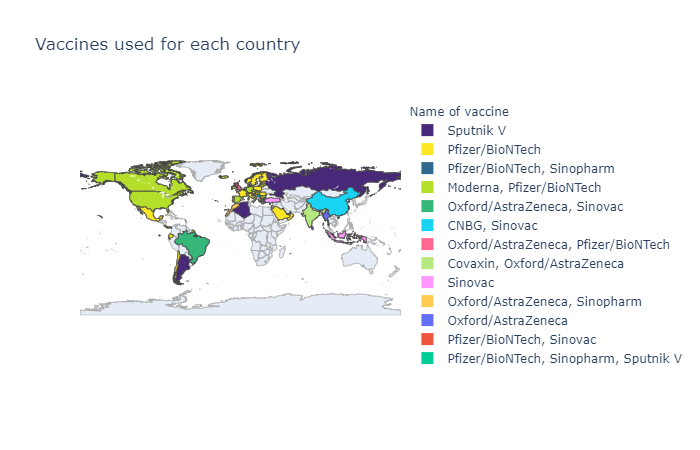

The page's visual inventory and layout, read from the dashboard file:
{"tool":"powerbi","page":{"name":"Page 3","canvas":[1280,720],"ordinal":1},"visuals":[{"type":"filledMap","fields":{"Series":["country_vaccinations.vaccines"],"Category":["country_vaccinations.country"]},"box":[0,61.7,1280.3,658.3],"z":0},{"type":"textbox","box":[0,15.7,467.1,46],"z":1}]}

Visuals, with their boxes on the page's 1280x720 design canvas (x1, y1, x2, y2). These are canvas units, not pixel positions in the 700x450 screenshot, which may show the page scaled, cropped or inside an application window:
filledMap - country_vaccinations.vaccines x country_vaccinations.country: {"x1": 0, "y1": 62, "x2": 1280, "y2": 720}
textbox: {"x1": 0, "y1": 16, "x2": 467, "y2": 62}
